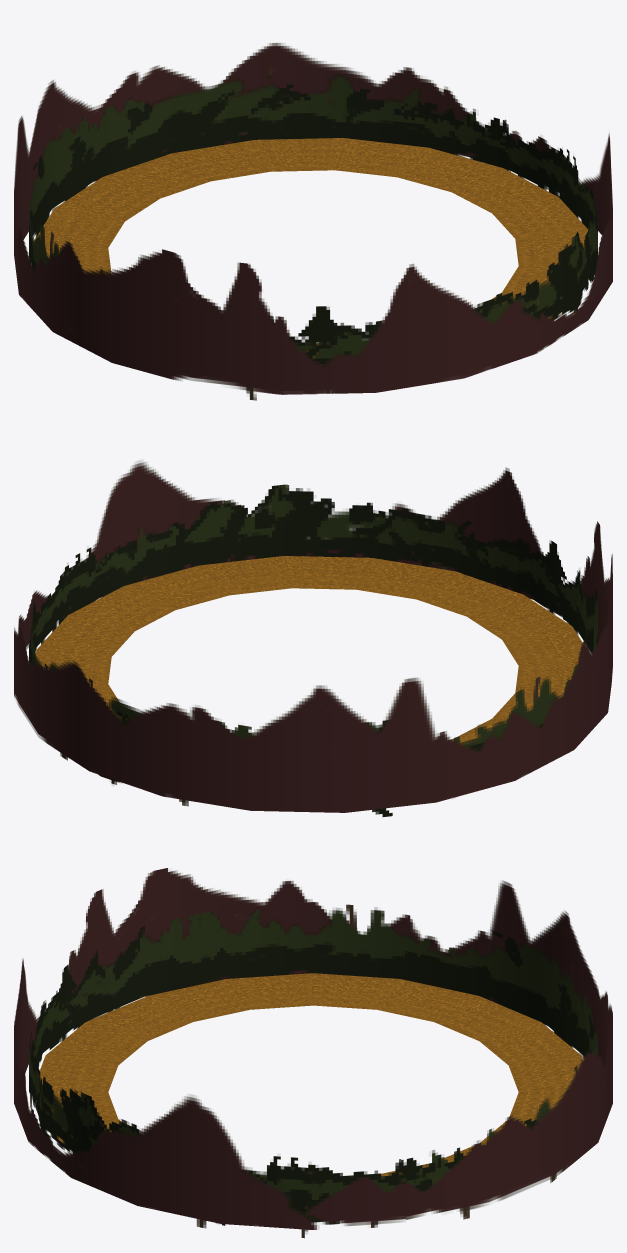
The model's file is enviroment ring.glb.
3 views of the same model, one above another, from view 1: azimuth 30°, elevation 25°; view 2: azimuth 150°, elevation 25°; view 3: azimuth 270°, elevation 25° (orthographic).
Parts seen in each view (by area): view 1: montanhas_geo, arvore_geo, groundlevelparallax_geo; view 2: montanhas_geo, arvore_geo, groundlevelparallax_geo; view 3: montanhas_geo, arvore_geo, groundlevelparallax_geo.
Part boxes in pixels (x1,y1,x2,y2): montanhas_geo: (14, 43, 612, 394); arvore_geo: (29, 68, 597, 400); groundlevelparallax_geo: (34, 138, 588, 357); montanhas_geo: (14, 460, 612, 812); arvore_geo: (29, 484, 597, 816); groundlevelparallax_geo: (36, 556, 582, 745); montanhas_geo: (14, 868, 612, 1229); arvore_geo: (29, 904, 597, 1238); groundlevelparallax_geo: (36, 973, 583, 1176).
Bounding box in the file's own units: 60.77 × 15.87 × 60.77.
Materials: 3 (3 with a texture image).
